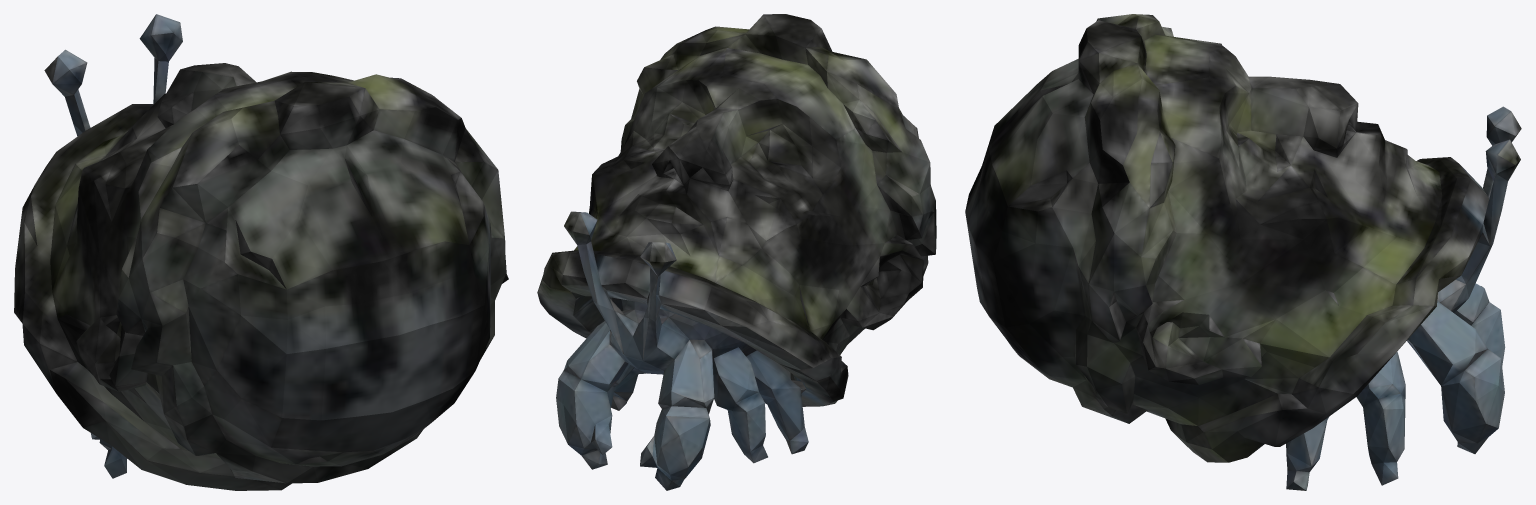
Rendered from foe_rubbleCrab.glb.
The picture shows the model from 3 angles, left to right: view 1: azimuth 30°, elevation 25°; view 2: azimuth 150°, elevation 25°; view 3: azimuth 270°, elevation 25°; orthographic projection. The views are drawn at different scales.
Parts seen in each view (by area): view 1: tripo_node_09121306-a968-497d-915e-f938ce37ea0b.001; view 2: tripo_node_09121306-a968-497d-915e-f938ce37ea0b.001; view 3: tripo_node_09121306-a968-497d-915e-f938ce37ea0b.001.
Part boxes in pixels (x1,y1,x2,y2): tripo_node_09121306-a968-497d-915e-f938ce37ea0b.001: [14, 14, 508, 490]; tripo_node_09121306-a968-497d-915e-f938ce37ea0b.001: [537, 14, 936, 490]; tripo_node_09121306-a968-497d-915e-f938ce37ea0b.001: [965, 14, 1521, 490].
Size of the model in its own units: 0.7452 by 0.8022 by 0.9998.
Materials: 1 (1 with a texture image).
